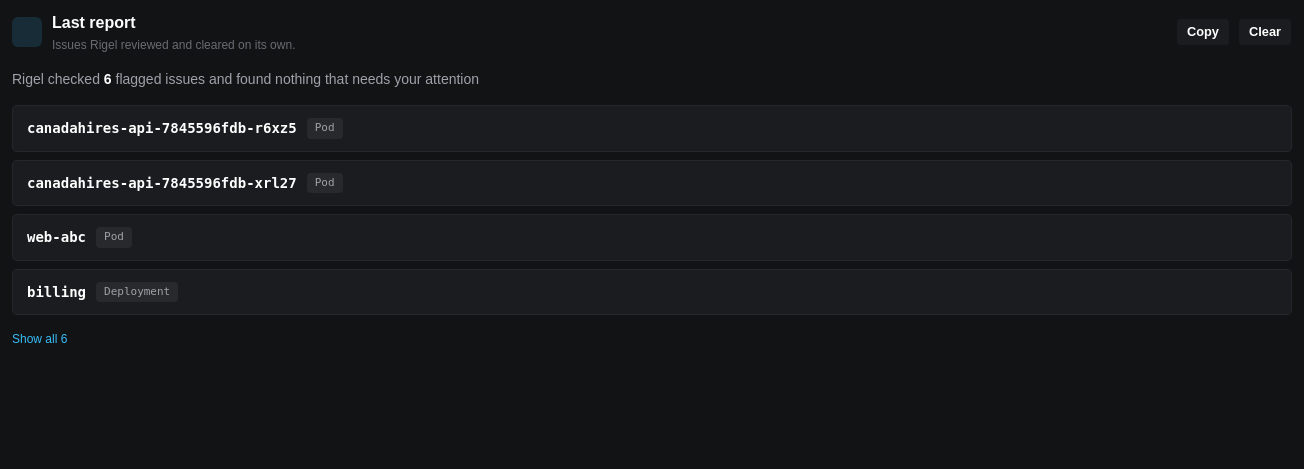
Test: LastReportCard › summarizes the count and shows a collapsed subset with a Show all toggle
Expected: the text "6" is shown, [104,71,112,87]
Expected: the text "web-abc" is shown, [27,227,86,247]
Click the button "Show all 6".
click(40, 339)  # box [12,331,67,347]
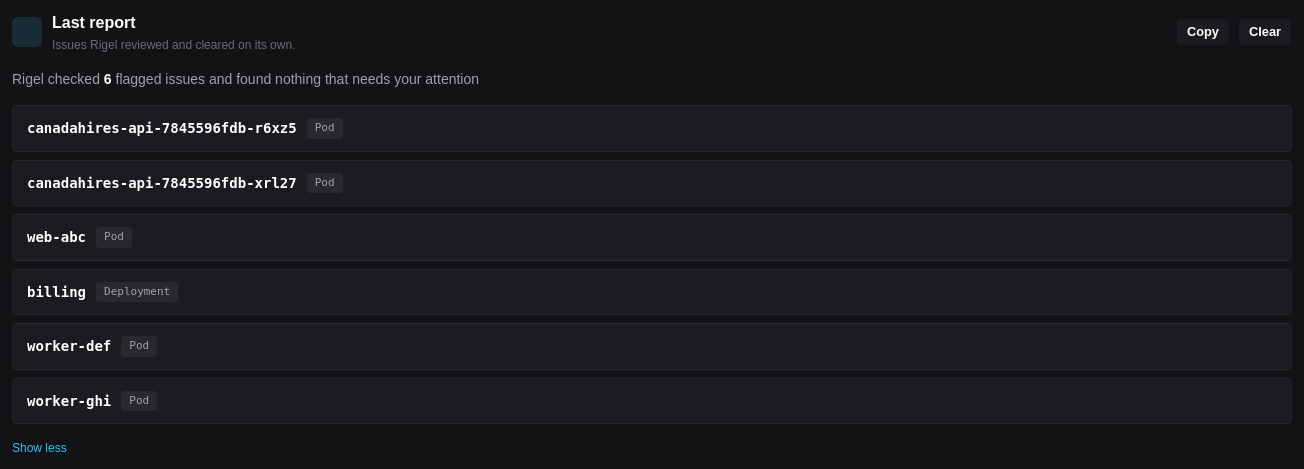
Expected: the text "worker-ghi" is shown, [27,391,111,411]
